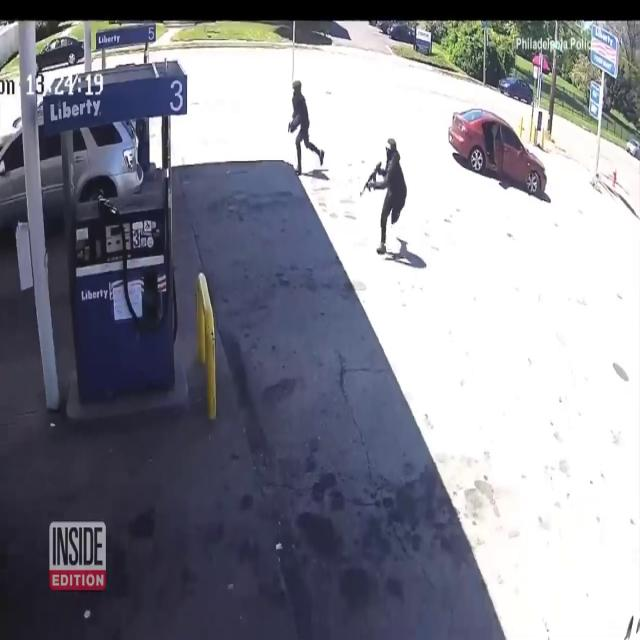penembakan: (285, 78, 327, 188)
